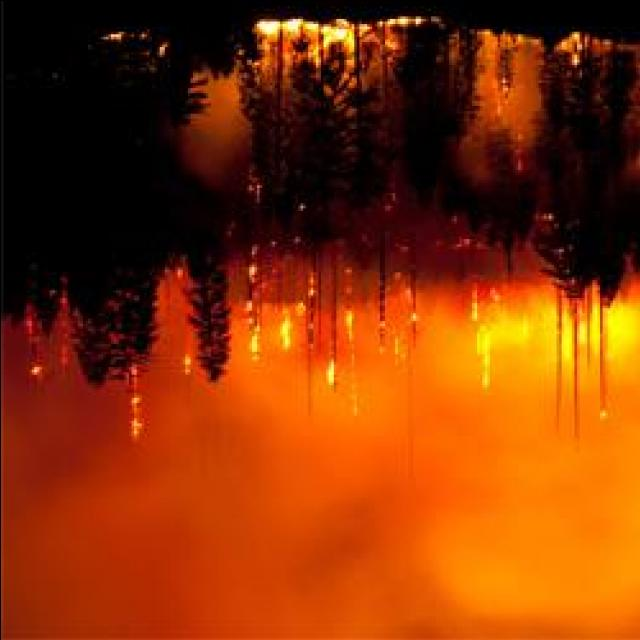fire: (458, 301, 536, 361)
smoke: (0, 391, 327, 636), (314, 422, 632, 636), (183, 94, 247, 172)
